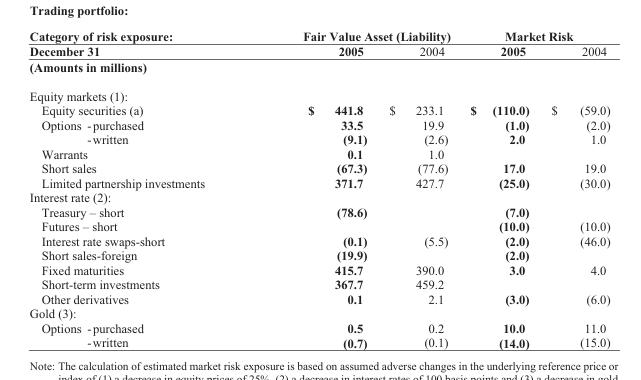table: (28, 29, 609, 349)
table column: (28, 29, 253, 349), (253, 29, 377, 349), (377, 29, 459, 349), (459, 29, 539, 349), (539, 29, 609, 349)
table column header: (28, 29, 609, 58)
table projected row header: (28, 58, 609, 80), (28, 80, 609, 102), (28, 189, 609, 204), (28, 305, 609, 320)
table row: (28, 58, 609, 80), (28, 80, 609, 102), (28, 43, 609, 58), (28, 102, 609, 117), (28, 131, 609, 146), (28, 160, 609, 175), (28, 189, 609, 204), (28, 218, 609, 233), (28, 247, 609, 262), (28, 276, 609, 291), (28, 305, 609, 320), (28, 334, 609, 349), (28, 29, 609, 43), (28, 117, 609, 131), (28, 146, 609, 160), (28, 175, 609, 189), (28, 204, 609, 218), (28, 233, 609, 247), (28, 262, 609, 276), (28, 291, 609, 305), (28, 320, 609, 334)
table spanning cell: (28, 29, 253, 58), (253, 29, 459, 43), (459, 29, 609, 43)
